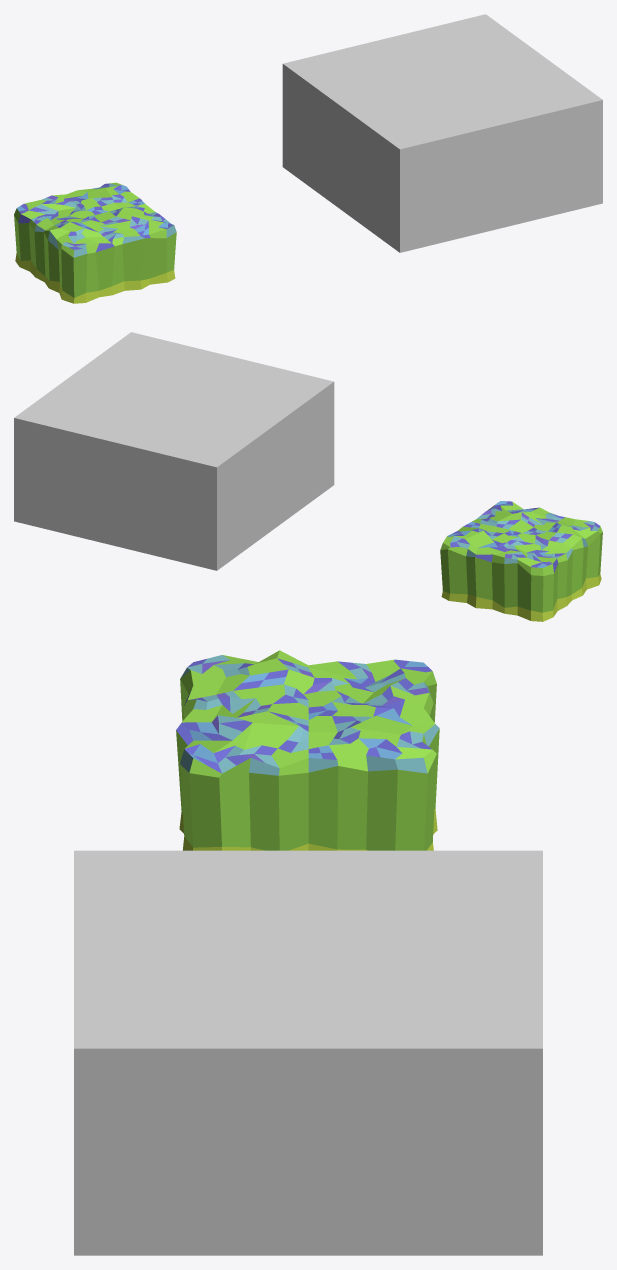
File: flax_field.fbx
The picture shows the model from 3 angles, top to bottom: view 1: azimuth 30°, elevation 25°; view 2: azimuth 150°, elevation 25°; view 3: azimuth 270°, elevation 25°; orthographic projection. The views are drawn at different scales.
Parts seen in each view (by area): view 1: Cube, flax_field; view 2: Cube, flax_field; view 3: Cube, flax_field.
Part boxes in pixels (x1,y1,x2,y2): Cube: [282, 14, 602, 252]; flax_field: [14, 182, 176, 303]; Cube: [14, 332, 334, 570]; flax_field: [440, 501, 602, 621]; Cube: [74, 850, 542, 1255]; flax_field: [176, 650, 439, 850].
Bounding box in the file's own units: 498 × 97.47 × 200.
